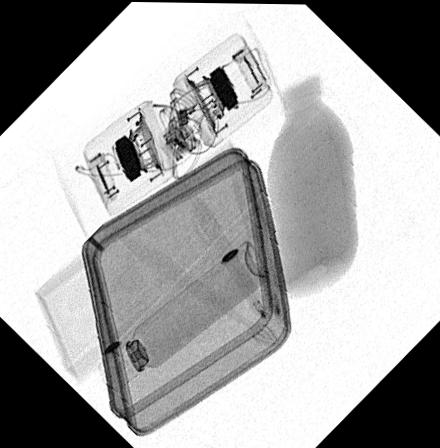Sprayer: (97, 239, 271, 391)
